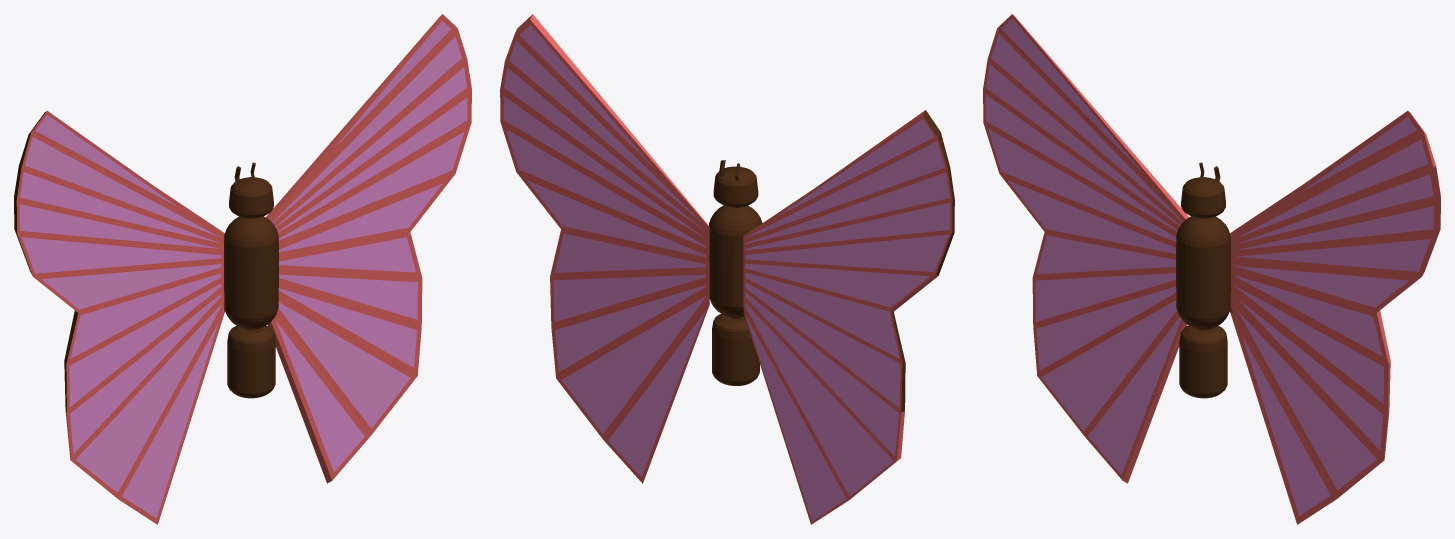
File: Butterfly.fbx
The picture shows the model from 3 angles, left to right: view 1: azimuth 30°, elevation 25°; view 2: azimuth 150°, elevation 25°; view 3: azimuth 330°, elevation 25°; orthographic projection.
Visible parts, largest first — view 1: Sphere.001; view 2: Sphere.001; view 3: Sphere.001.
Boxes of the visible parts, x1=… form: Sphere.001: x1=14, y1=14, x2=471, y2=524; Sphere.001: x1=500, y1=14, x2=954, y2=524; Sphere.001: x1=983, y1=14, x2=1440, y2=524.
Bounding box in the file's own units: 1931 × 1798 × 198.
